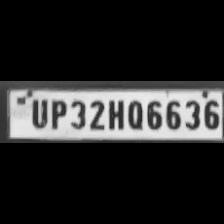2: (86, 97, 104, 131)
3: (66, 96, 86, 130), (182, 97, 200, 131)
6: (201, 97, 221, 131), (144, 97, 162, 131), (164, 97, 181, 131)
H: (104, 97, 124, 131)
P: (47, 96, 67, 130)
Q: (124, 97, 144, 130)
U: (26, 97, 48, 129)
